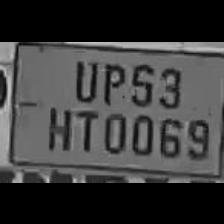0: (98, 105, 125, 152), (127, 109, 153, 155)
3: (156, 61, 182, 107)
5: (125, 56, 154, 106)
6: (156, 112, 182, 158)
9: (184, 111, 210, 158)
H: (44, 101, 72, 151)
P: (96, 55, 126, 104)
T: (70, 104, 98, 152)
U: (68, 54, 98, 102)
